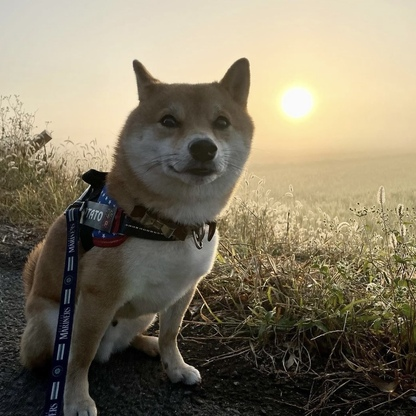shiba: (16, 55, 258, 416)
